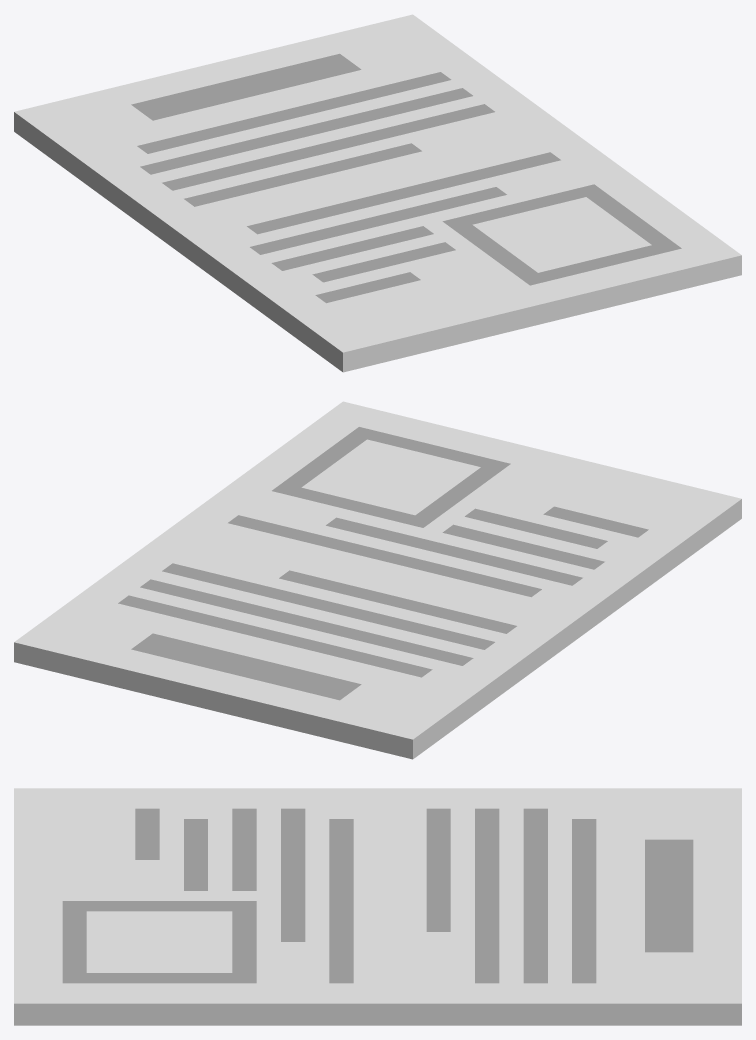
The model's file is paper.obj.
3 renders of one model, top to bottom at view 1: azimuth 30°, elevation 25°; view 2: azimuth 150°, elevation 25°; view 3: azimuth 270°, elevation 25°, orthographic. The views are drawn at different scales.
Bounding box in the file's own units: 21 × 1 × 30.
1 material, 1 textured.
